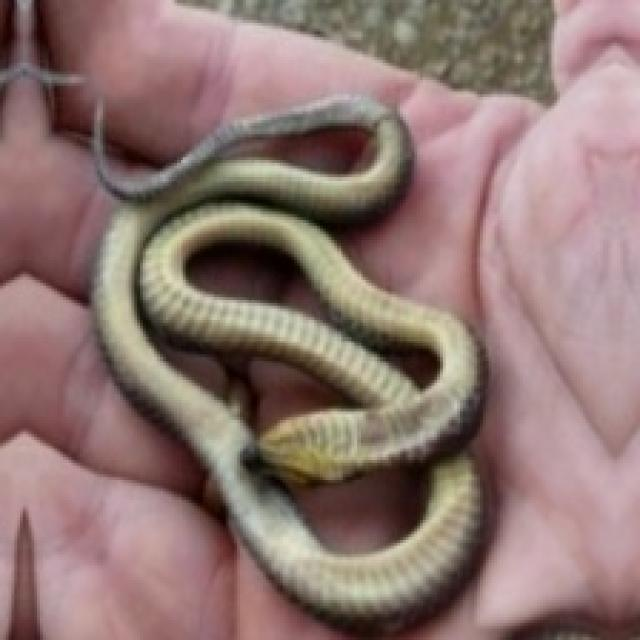gunthers philippine shrub snake: (91, 94, 483, 629), (154, 331, 349, 437), (283, 460, 426, 551), (186, 240, 329, 320), (231, 126, 371, 171)
